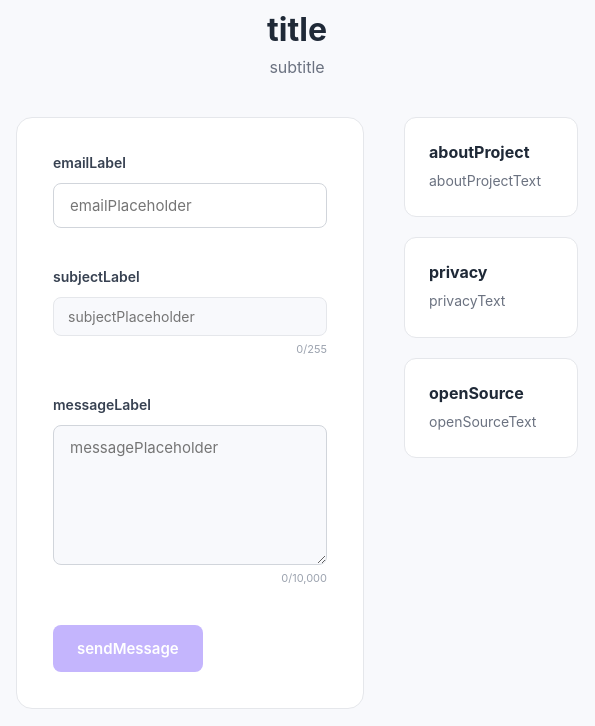
ContactPage › shows character counts
In the field labelled "subjectLabel": (190, 316) left=53, top=297, right=327, bottom=336, type "Hello"
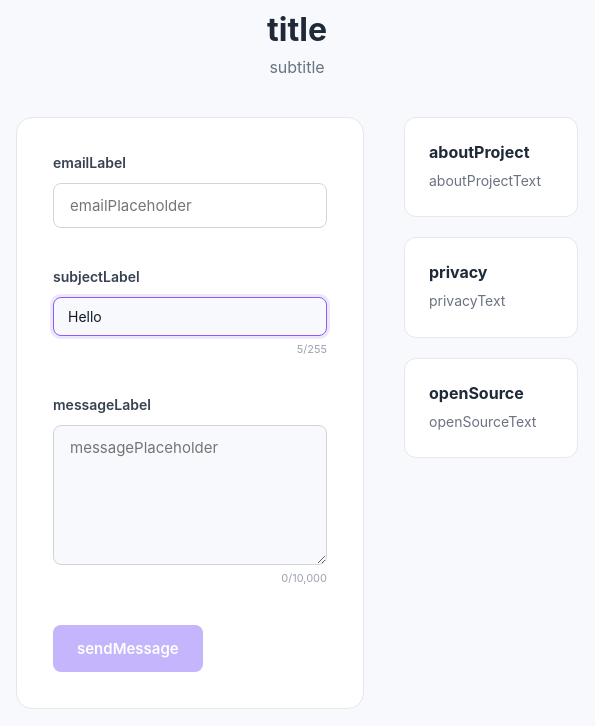
Now the text "5/255" is shown, box left=297, top=342, right=327, bottom=356
